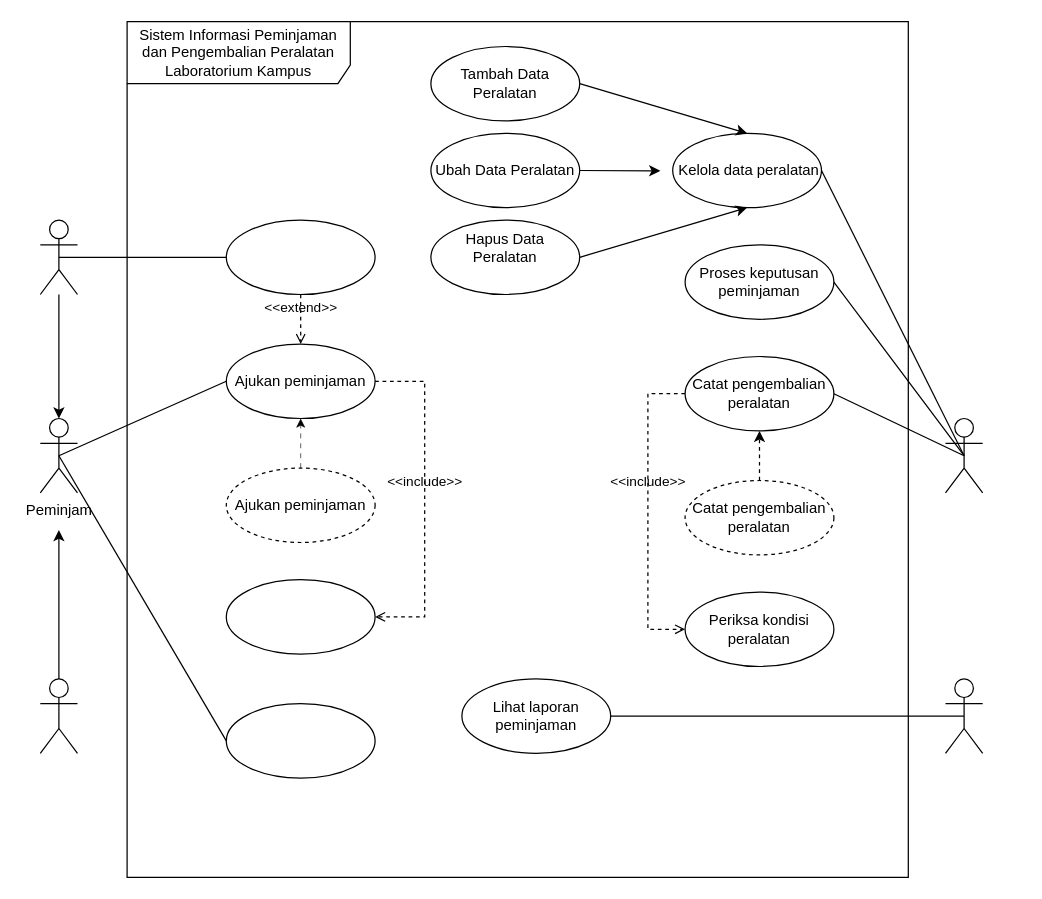
The diagram is 1042 pixels wide and 899 high, and some of its shapes have lost their labels. Here are the shapes that lost their labels. From the top down, the box of each, then its label:
(39, 219, 78, 294): Mahasiswa
(225, 219, 375, 294): Cetak bukti pengajuan
(944, 417, 983, 493): Petugas Laboran
(225, 578, 375, 654): Periksa ketersediaan
(39, 678, 78, 753): Dosen
(944, 678, 983, 753): Kepala Laboran
(225, 702, 375, 778): Lihat ketersediaan peralatan
